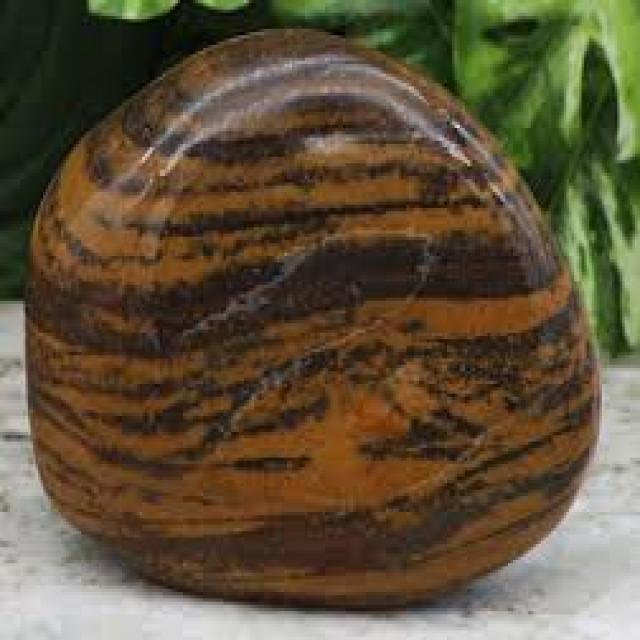Metamorphic: (13, 10, 607, 608)
